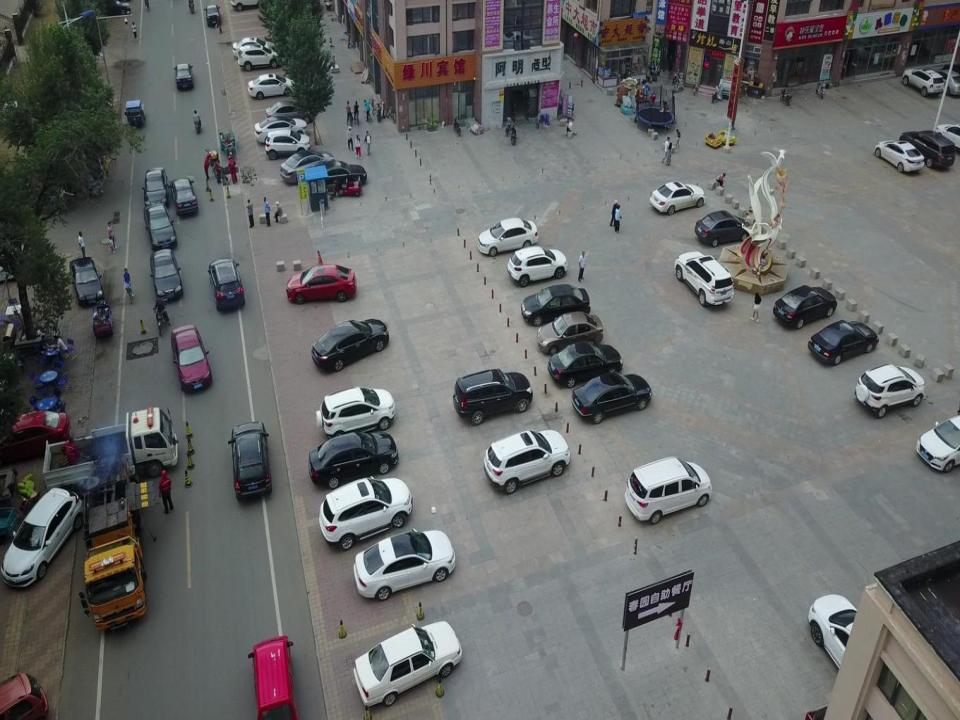car: (808, 593, 898, 708), (353, 620, 461, 708), (1, 488, 82, 588), (354, 528, 454, 600), (319, 475, 412, 550), (624, 455, 712, 525), (484, 428, 571, 493), (309, 431, 398, 490), (453, 367, 533, 425), (311, 317, 389, 373), (315, 386, 395, 439), (571, 373, 652, 424), (854, 362, 925, 418), (548, 340, 622, 388), (0, 409, 71, 459), (674, 251, 734, 307), (228, 421, 271, 498), (808, 319, 880, 364), (521, 283, 590, 327), (537, 310, 604, 354), (772, 284, 837, 328), (170, 324, 212, 391), (286, 264, 356, 303), (916, 414, 960, 474), (507, 244, 567, 286), (477, 217, 539, 256), (899, 129, 955, 169), (695, 210, 754, 246), (207, 257, 245, 309), (149, 248, 183, 306), (650, 180, 705, 215), (280, 150, 334, 184), (875, 139, 924, 173), (69, 258, 103, 307), (310, 160, 367, 189), (143, 204, 177, 250), (254, 116, 308, 144), (266, 129, 310, 161), (248, 72, 296, 99), (265, 99, 312, 125), (238, 45, 282, 72), (167, 177, 198, 215), (902, 69, 944, 97), (142, 167, 167, 208), (233, 36, 275, 58), (934, 121, 960, 152), (932, 69, 960, 96), (92, 0, 132, 18), (204, 4, 220, 26)
truck: (80, 456, 154, 636), (42, 405, 178, 496)
van: (248, 632, 296, 720)
